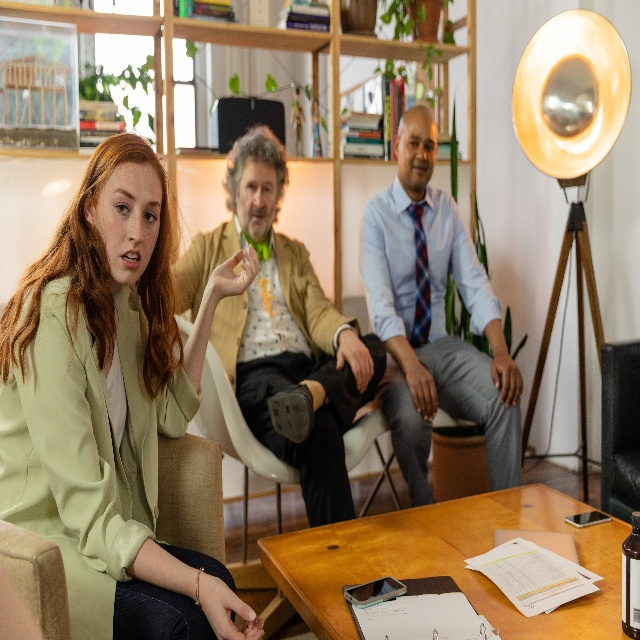Gafas: (258, 276, 279, 318)
Sin_guantes: (207, 572, 266, 640), (209, 243, 260, 297), (336, 335, 373, 394), (405, 362, 439, 423), (490, 352, 523, 408)
